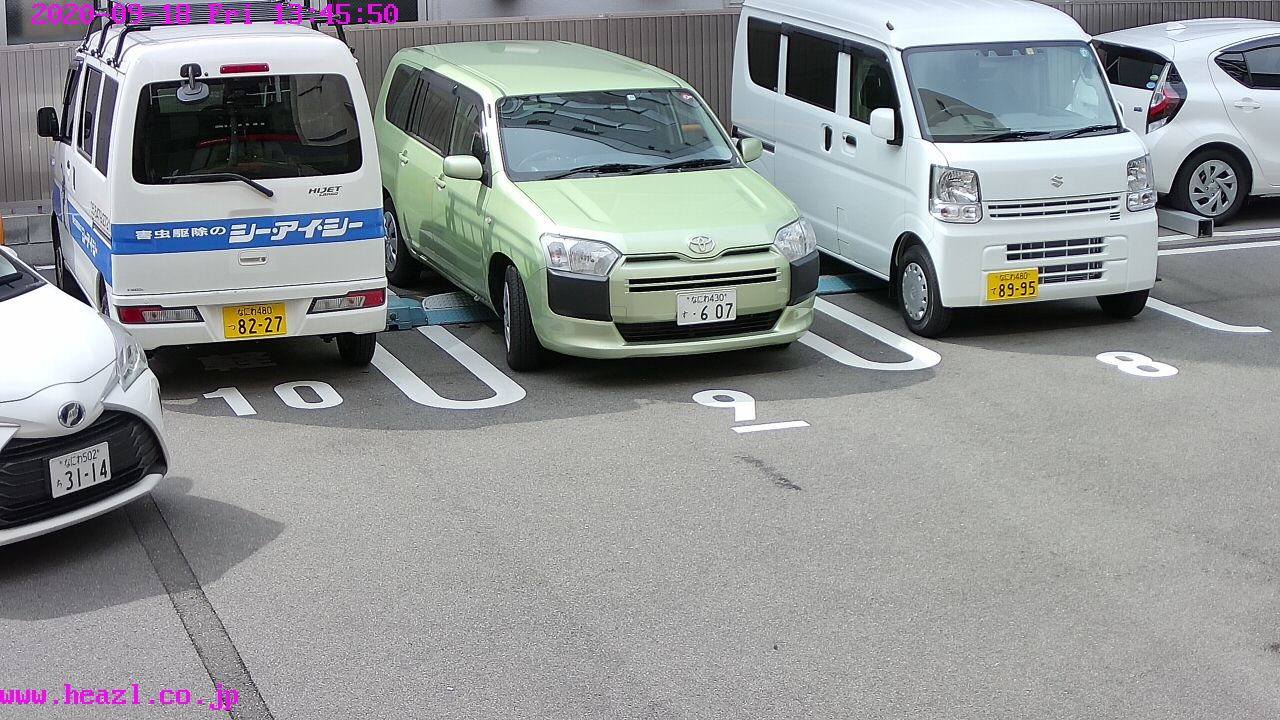number_plate: (54, 449, 114, 495), (222, 302, 286, 339), (675, 289, 734, 325), (988, 270, 1040, 301)
